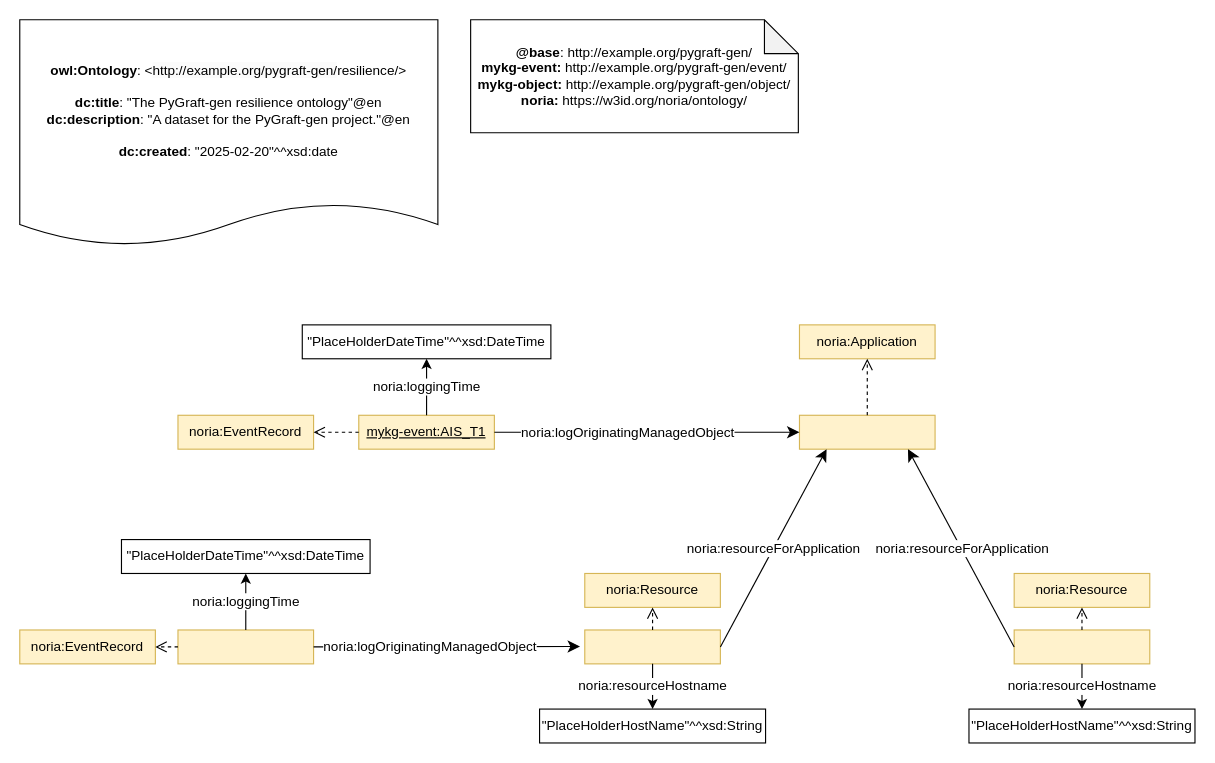
Image size: 1215x763. Some labels were removed from this diagram. The box of each missing label's shape, as (x1, y1, x2, y2) in pixels:
mykg-event:AIS_T0: (177, 629, 314, 664)
mykg-object:RES_APP1: (798, 414, 935, 449)
mykg-object:RES_S1: (584, 629, 720, 664)
mykg-object:RES_S2: (1013, 629, 1150, 664)
